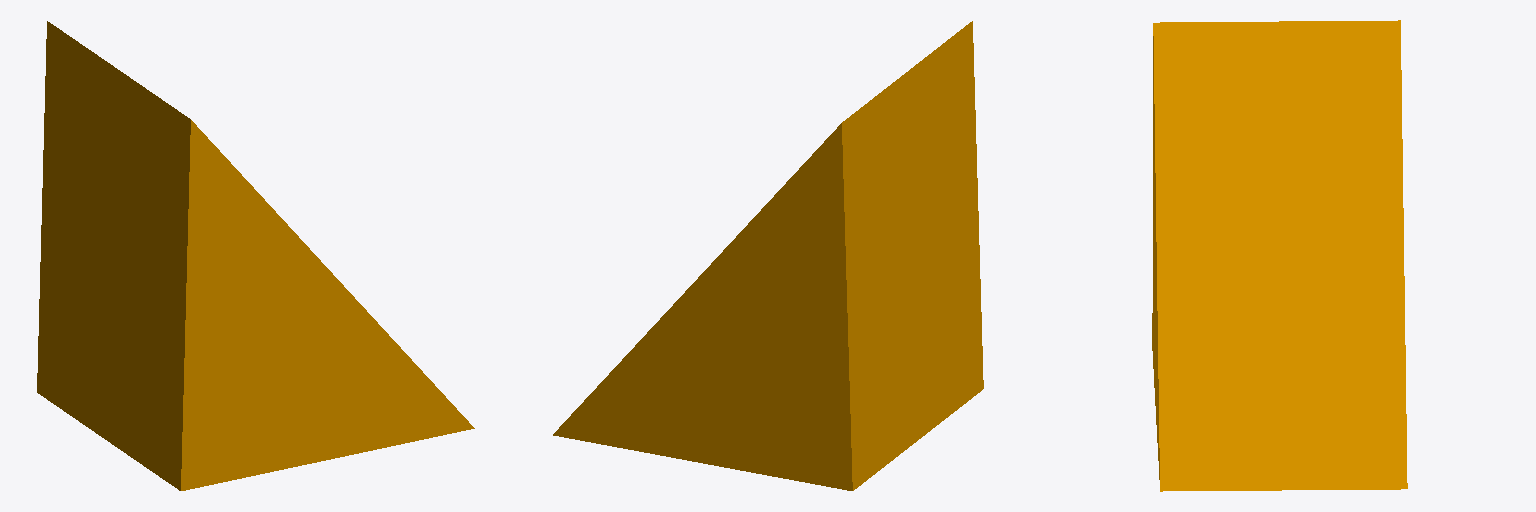
robot.urdf — wedge_high_model:
<robot name="wedge_high_model">
  <link name="wedge_high">
    <inertial>
      <mass value="1.000000" />
      <origin xyz="0.004555 -0.219959 -0.010118"/>
      <inertia ixx="0.050682" ixy="-0.001742" ixz="0.039623" iyy="0.162285" iyz="-0.000112" izz="0.018433" />
    </inertial>
    <visual>
      <geometry>
        <mesh filename="package://manipulation_objects/meshes/wedge_high.stl" />
      </geometry>
    </visual>
    <collision>
      <geometry>
        <mesh filename="package://manipulation_objects/meshes/wedge_high.stl" />
      </geometry>
    </collision>
  </link>
  <gazebo reference="wedge_high">
    <material>Gazebo/Grey</material>
  </gazebo>
</robot>

--- Render facts (derived) ---
3 views of the same robot in one strip: view 1: azimuth 30°, elevation 25°; view 2: azimuth 150°, elevation 25°; view 3: azimuth 270°, elevation 25° (orthographic).
Model wedge_high_model with 1 links and 0 joints (none), rooted at wedge_high, posed every joint at zero.
Visible links, largest first — view 1: wedge_high; view 2: wedge_high; view 3: wedge_high.
Link boxes in pixels (bbox=[...]): wedge_high: bbox=[37, 21, 474, 490]; wedge_high: bbox=[553, 21, 983, 490]; wedge_high: bbox=[1152, 20, 1407, 491].
Bounding box of the posed robot: 1.12 × 0.9072 × 1.35 m (x, y, z).
Meshes: 1 distinct files referenced, 1 mesh visuals loaded (1 binary STL).
